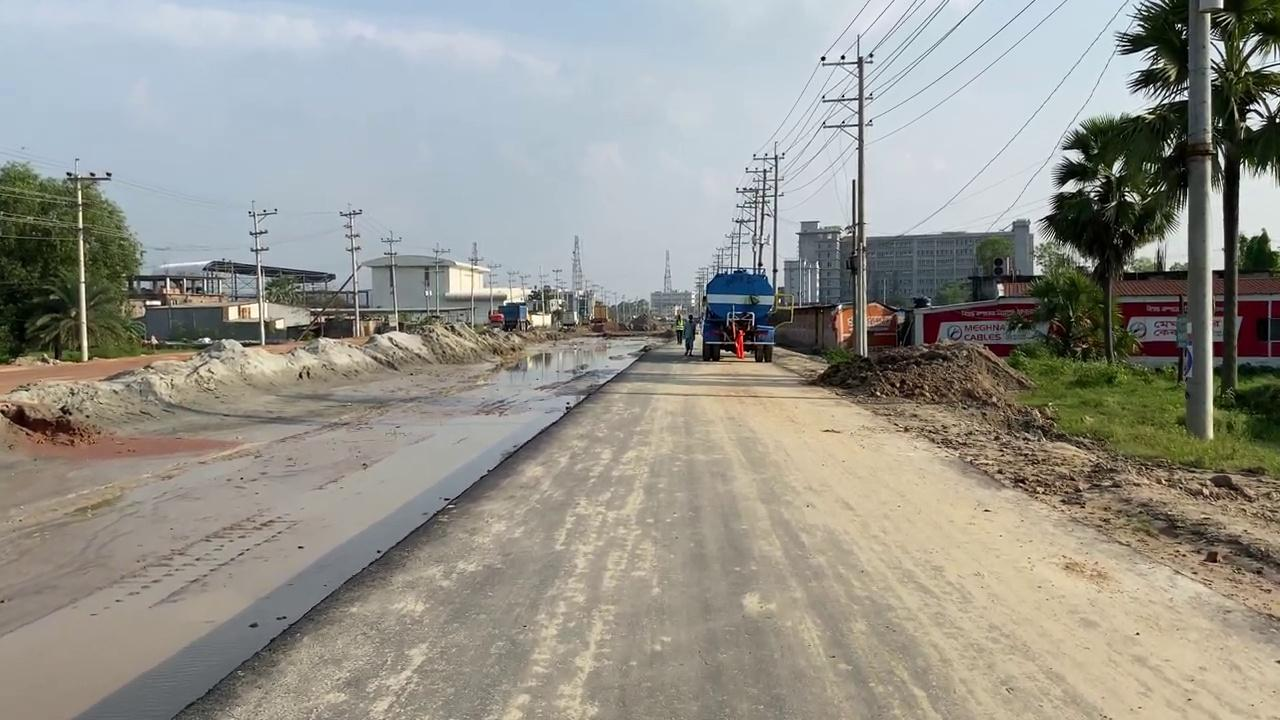Garbage: (811, 339, 1036, 406)
Pole: (820, 34, 874, 356), (1183, 0, 1216, 441)
Stuck-water: (733, 328, 745, 359)
Traffic-sign: (1108, 0, 1279, 408), (1034, 113, 1177, 363)
Tree: (698, 140, 788, 362), (891, 257, 1067, 357), (487, 234, 612, 332), (487, 283, 576, 332)
